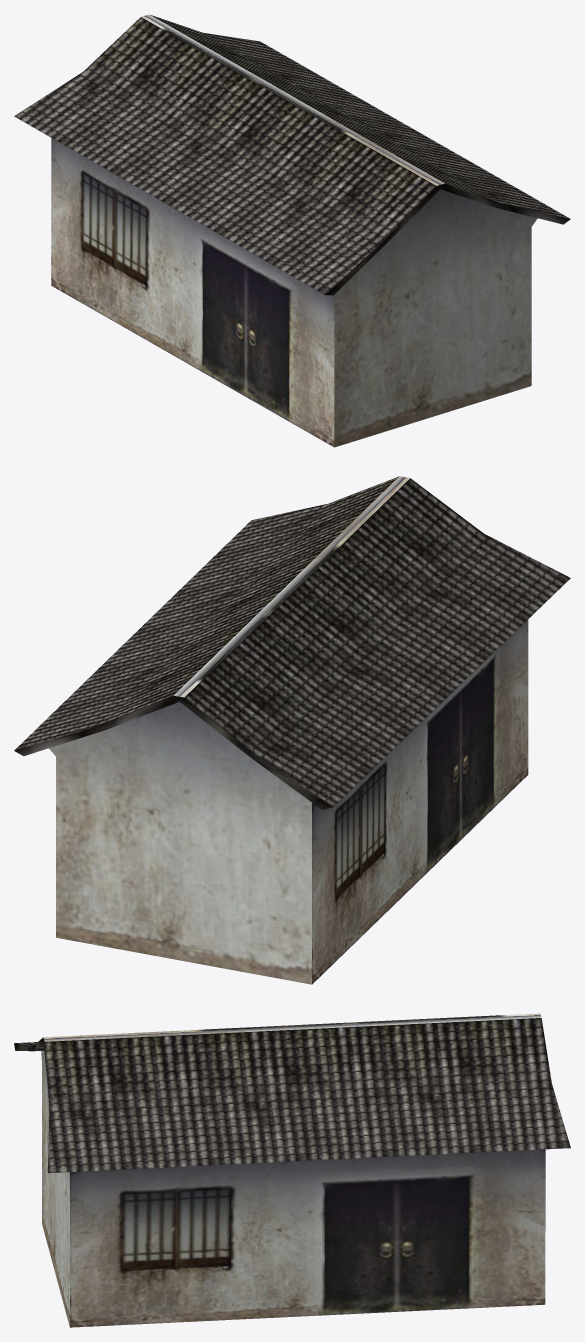
The model's file is ian1561.obj.
The picture shows the model from 3 angles, top to bottom: view 1: azimuth 30°, elevation 25°; view 2: azimuth 150°, elevation 25°; view 3: azimuth 270°, elevation 25°; orthographic projection. The views are drawn at different scales.
Visible parts, largest first — view 1: ian1561; view 2: ian1561; view 3: ian1561.
Boxes of the visible parts, <box> form: ian1561: <box>14,14,570,447</box>; ian1561: <box>14,476,570,984</box>; ian1561: <box>14,1013,570,1327</box>.
Size of the model in its own units: 138 by 99.21 by 211.
